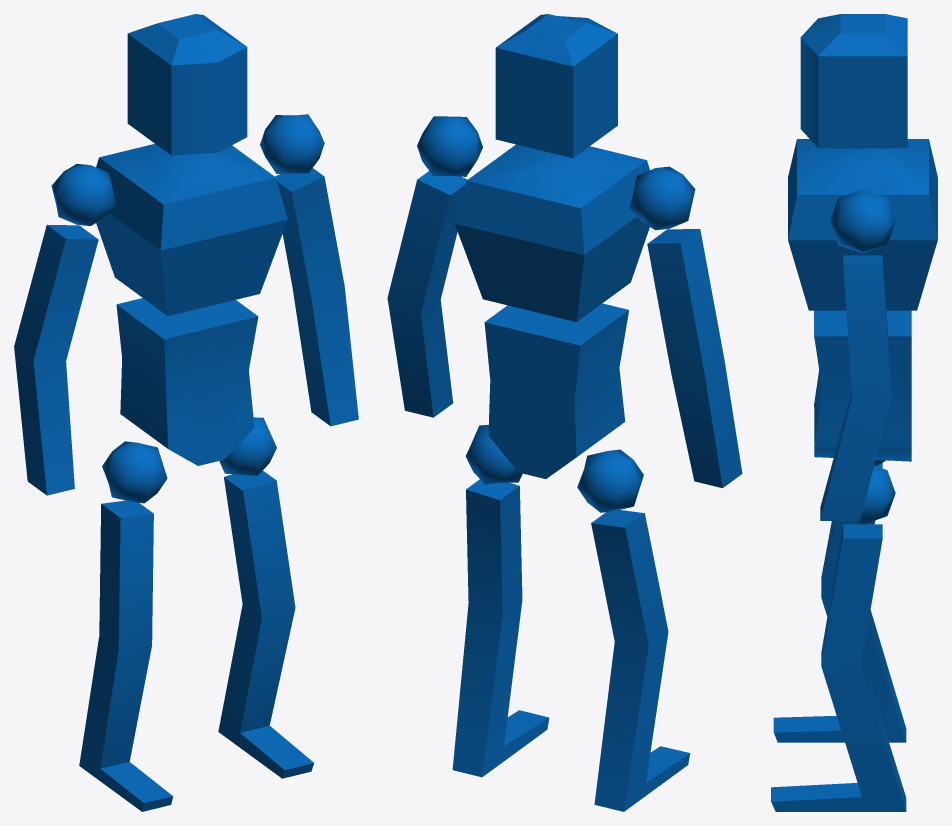
Rendered from baseCharacter_BASEHAT_v02.fbx.
3 views of the same model, side by side, from view 1: azimuth 30°, elevation 25°; view 2: azimuth 150°, elevation 25°; view 3: azimuth 270°, elevation 25° (orthographic).
Parts seen in each view (by area): view 1: upperBody, lowerBody, legRight, legLeft, head, armRight, armLeft, shoulderRight, shoulderLeft, pelvisRight, pelvisLeft; view 2: upperBody, lowerBody, legRight, legLeft, head, armRight, armLeft, shoulderRight, shoulderLeft, pelvisRight, pelvisLeft; view 3: upperBody, legLeft, head, armLeft, lowerBody, legRight, shoulderLeft, pelvisLeft.
Boxes of the visible parts, x1,y1,x2,y2 form: upperBody: [96, 144, 287, 316]; lowerBody: [116, 298, 258, 465]; legRight: [79, 500, 173, 811]; legLeft: [218, 470, 313, 778]; head: [127, 14, 247, 155]; armRight: [14, 224, 98, 495]; armLeft: [275, 168, 358, 426]; shoulderRight: [51, 163, 115, 225]; shoulderLeft: [260, 114, 324, 173]; pelvisRight: [102, 441, 167, 503]; pelvisLeft: [219, 417, 276, 475]; upperBody: [454, 144, 649, 321]; lowerBody: [484, 303, 628, 478]; legRight: [591, 510, 690, 811]; legLeft: [452, 479, 549, 777]; head: [495, 14, 617, 158]; armRight: [647, 229, 742, 488]; armLeft: [387, 171, 467, 417]; shoulderRight: [629, 166, 695, 230]; shoulderLeft: [417, 116, 482, 176]; pelvisRight: [577, 449, 643, 512]; pelvisLeft: [465, 425, 522, 484]; upperBody: [788, 139, 937, 310]; legLeft: [771, 524, 906, 811]; head: [800, 14, 907, 148]; armLeft: [820, 255, 891, 520]; lowerBody: [814, 310, 911, 461]; legRight: [773, 463, 906, 742]; shoulderLeft: [830, 189, 895, 253]; pelvisLeft: [855, 465, 895, 524].
Bounding box in the file's own units: 78.82 × 176 × 35.62.
